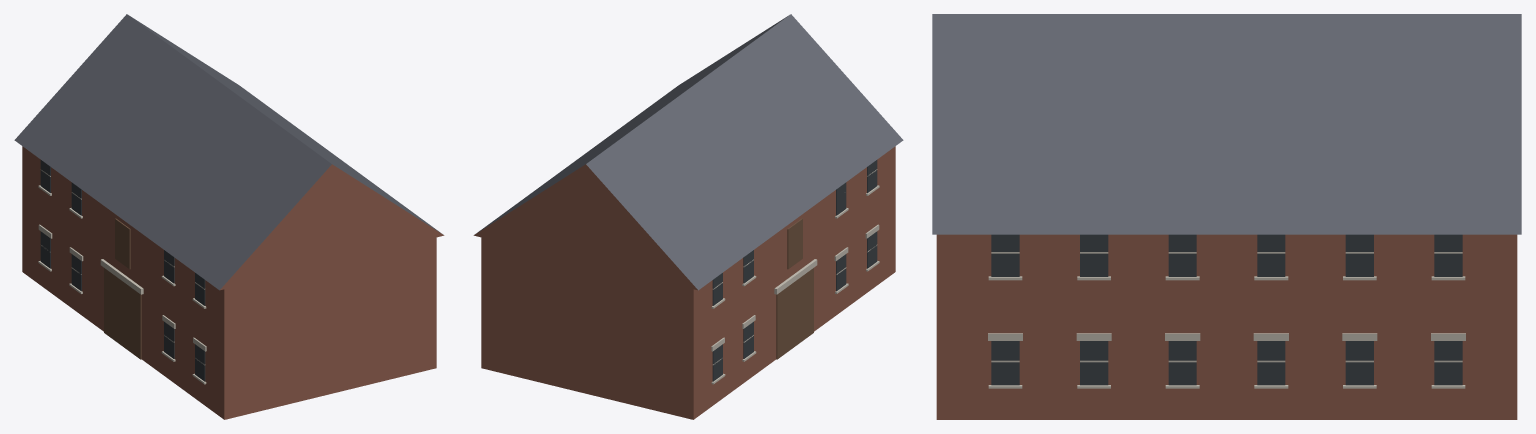
Rendered from house_1641_indiana_coach_house__draft_1904.glb.
3 renders of one model, left to right at view 1: azimuth 30°, elevation 25°; view 2: azimuth 150°, elevation 25°; view 3: azimuth 270°, elevation 25°, orthographic. The views are drawn at different scales.
Visible parts, largest first — view 1: house_1641_indiana_coach_house__draft_1904; view 2: house_1641_indiana_coach_house__draft_1904; view 3: house_1641_indiana_coach_house__draft_1904.
Part boxes in pixels (bbox=[...]): house_1641_indiana_coach_house__draft_1904: bbox=[14, 14, 444, 419]; house_1641_indiana_coach_house__draft_1904: bbox=[473, 14, 903, 419]; house_1641_indiana_coach_house__draft_1904: bbox=[932, 14, 1521, 419].
Bounding box in the file's own units: 10.6 × 10.4 × 16.74.
